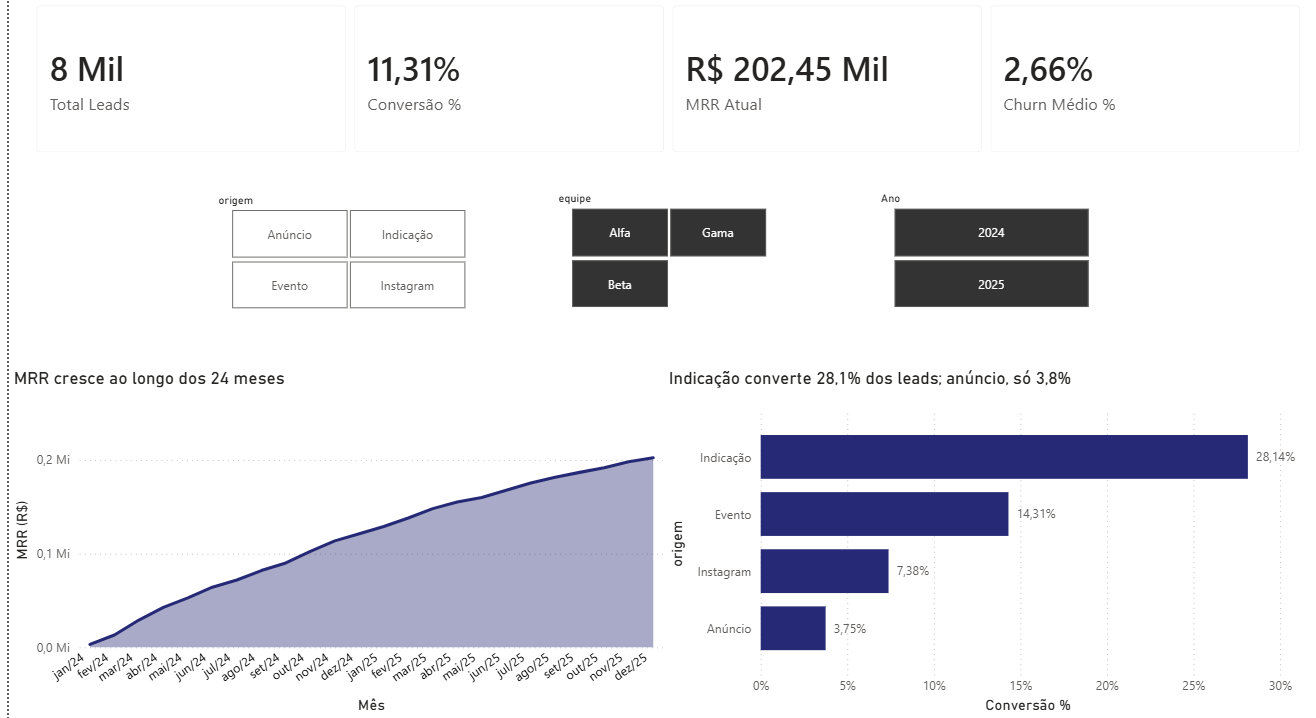

Layout of this report page (visuals, bound fields, positions):
{"tool":"powerbi","page":{"name":"1. Executiva","canvas":[1280,720],"ordinal":0},"visuals":[{"type":"cardVisual","fields":{"Data":["Leads_Detalhe.Total Leads","Calendario.Conversão %","Calendario.MRR Atual","Calendario.Churn Médio %"]},"box":[9.6,0,1270.7,178.4],"z":0},{"type":"areaChart","title":"MRR cresce ao longo dos 24 meses","fields":{"Category":["Calendario.Mês"],"Y":["Sum(MRR.mrr)"]},"box":[0,371.9,644.9,343.1],"z":1000},{"type":"clusteredBarChart","title":"Indicação converte 28,1% dos leads; anúncio, só 3,8%","fields":{"Category":["Leads_Detalhe.origem"],"Y":["Calendario.Conversão %"]},"box":[640.8,371.9,635.3,343.1],"z":2000},{"type":"slicer","fields":{"Values":["Calendario.Ano"]},"box":[839.8,194.9,240.1,124.9],"z":3000},{"type":"slicer","fields":{"Values":["Leads_Detalhe.origem"]},"box":[192.1,196.2,278.6,124.9],"z":4000},{"type":"slicer","fields":{"Values":["Leads_Detalhe.equipe"]},"box":[524.2,194.9,240.1,124.9],"z":5000}]}

Visuals, with their boxes on the page's 1280x720 design canvas (x1, y1, x2, y2). These are canvas units, not pixel positions in the 1316x718 screenshot, which may show the page scaled, cropped or inside an application window:
cardVisual - Leads_Detalhe.Total Leads x Calendario.Conversão %: box=[10, 0, 1280, 178]
"MRR cresce ao longo dos 24 meses" areaChart: box=[0, 372, 645, 715]
"Indicação converte 28,1% dos leads; anúncio, só 3,8%" clusteredBarChart: box=[641, 372, 1276, 715]
slicer - Calendario.Ano: box=[840, 195, 1080, 320]
slicer - Leads_Detalhe.origem: box=[192, 196, 471, 321]
slicer - Leads_Detalhe.equipe: box=[524, 195, 764, 320]
